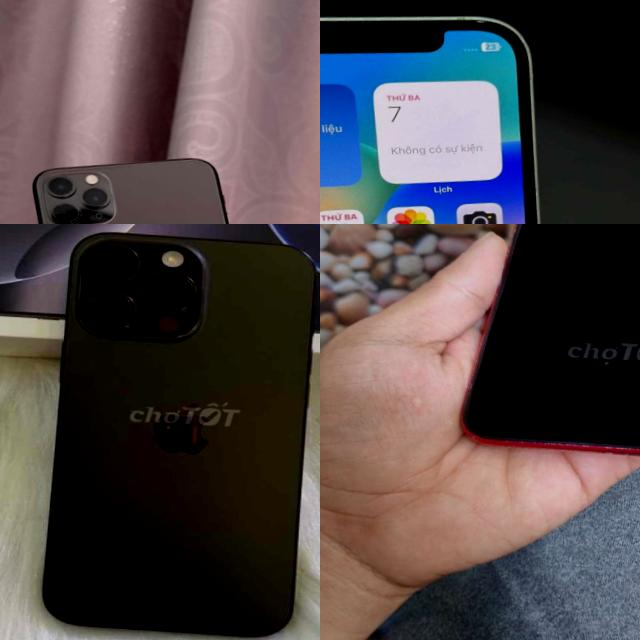gen_11: (13, 149, 295, 224)
gen_12_13: (320, 0, 588, 224)
gen_16: (18, 224, 320, 640)
gen_x_xs: (463, 224, 640, 453), (464, 224, 640, 452)
scratch: (502, 436, 582, 451), (600, 438, 630, 458)
